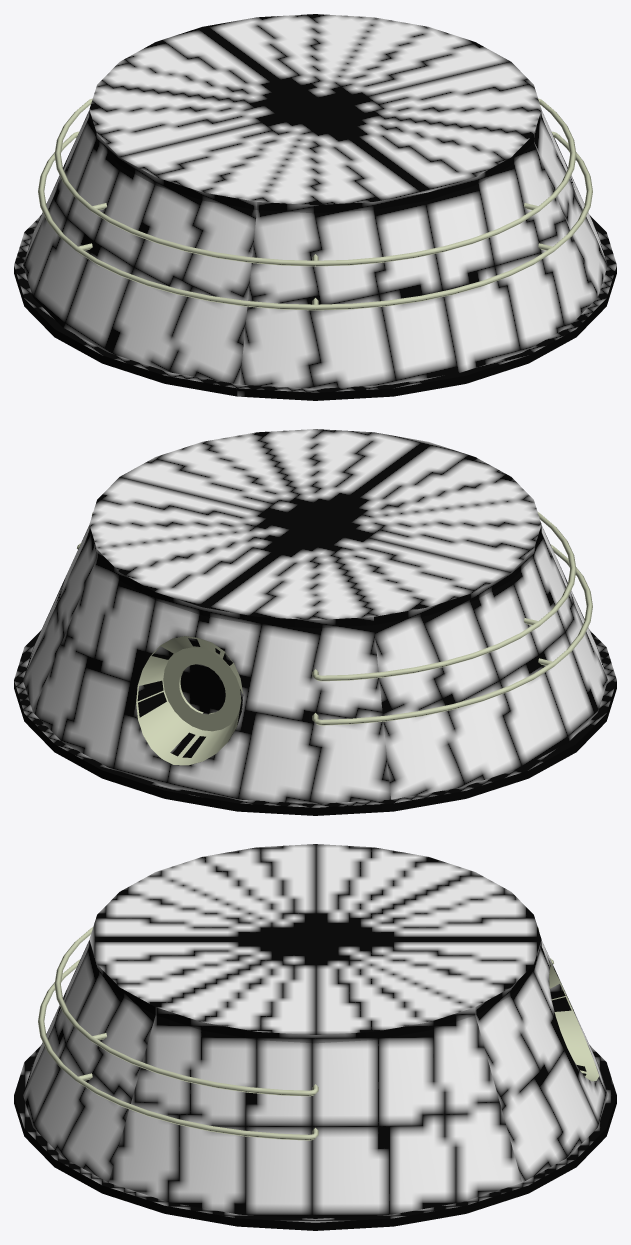
Rendered from eridani_adapter_s2_s1p5_1_interior.obj.
The picture shows the model from 3 angles, top to bottom: view 1: azimuth 30°, elevation 25°; view 2: azimuth 150°, elevation 25°; view 3: azimuth 270°, elevation 25°; orthographic projection.
Visible parts, largest first — view 1: internal1, mask1; view 2: internal1, mask1; view 3: internal1, mask1.
Boxes of the visible parts, box(x1,y1,x2,y2) form: internal1: box(14, 14, 616, 400); mask1: box(38, 98, 592, 310); internal1: box(14, 429, 616, 815); mask1: box(77, 512, 592, 765); internal1: box(14, 844, 616, 1230); mask1: box(38, 927, 599, 1140).
Bounding box in the file's own units: 2.5 × 0.75 × 2.5.
2 materials, 1 textured.
